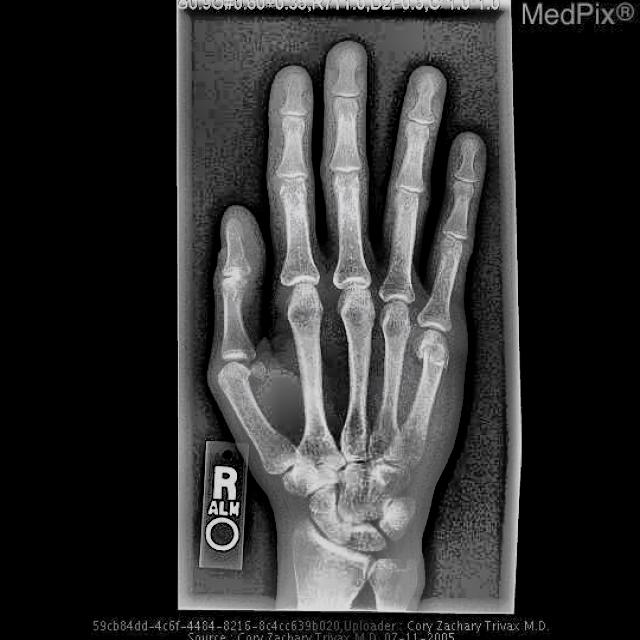fracture: (418, 340, 450, 368)
